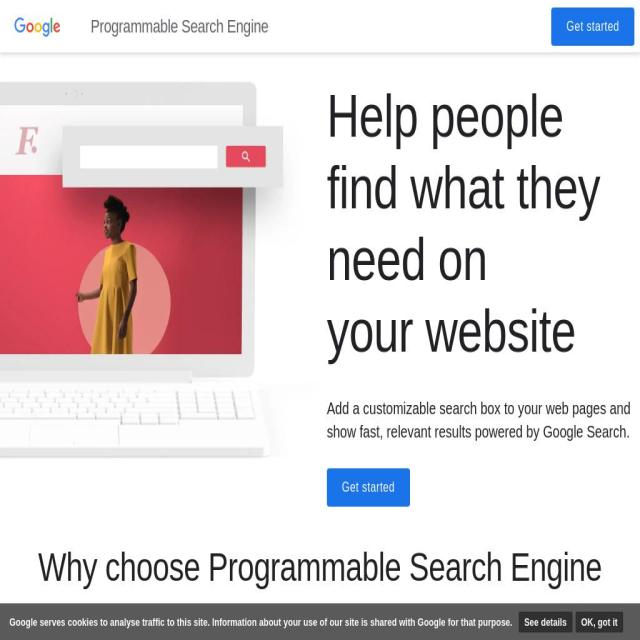button: (327, 468, 410, 507), (552, 7, 634, 46), (518, 612, 573, 632), (575, 612, 623, 632)
image: (0, 53, 320, 487), (15, 18, 60, 38)
text: (327, 83, 600, 364), (38, 545, 603, 589), (327, 399, 631, 441), (10, 616, 512, 628), (566, 16, 620, 36), (342, 478, 395, 498)
